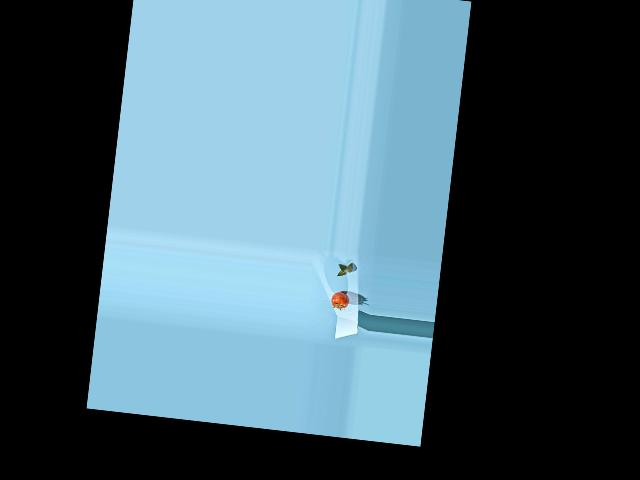tomato: (330, 291, 350, 310)
